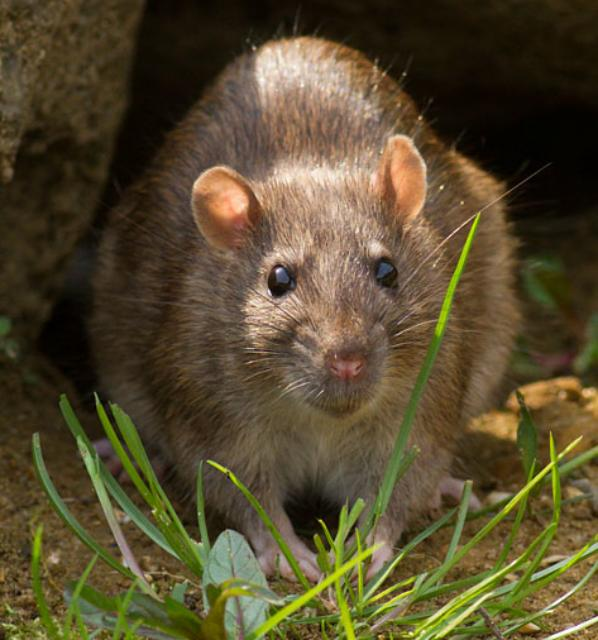rat: (69, 23, 535, 545)
